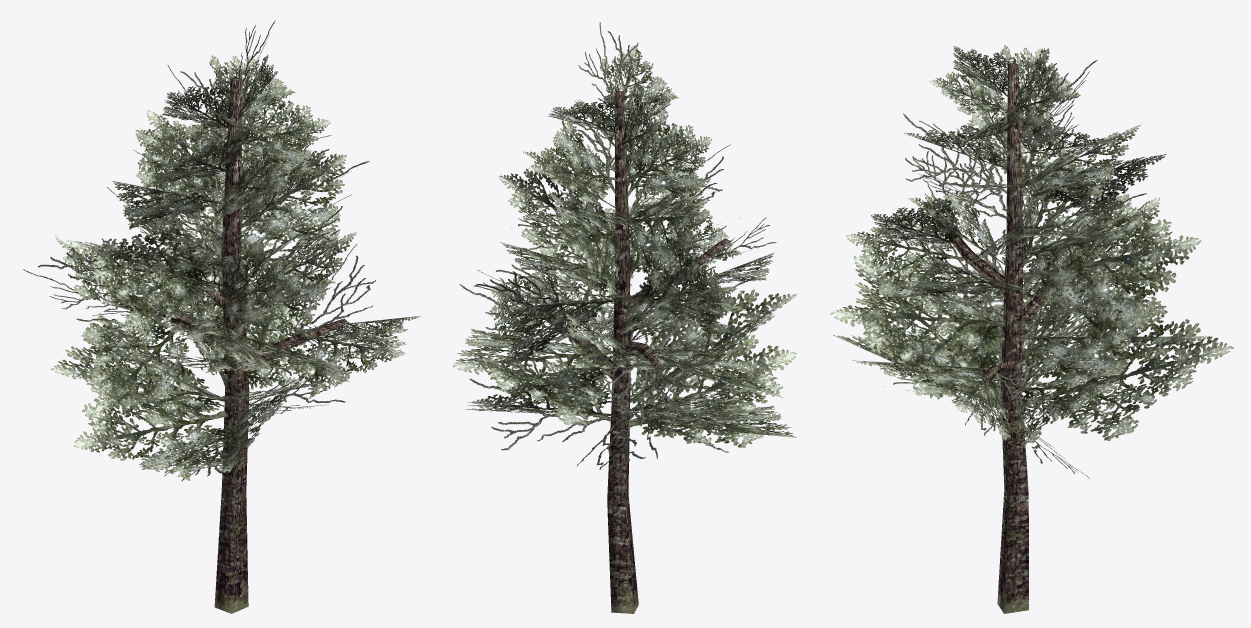
Rendered from OZ_00_hd_tree01D.glb.
The picture shows the model from 3 angles, left to right: view 1: azimuth 30°, elevation 25°; view 2: azimuth 150°, elevation 25°; view 3: azimuth 270°, elevation 25°; orthographic projection. The views are drawn at different scales.
Parts seen in each view (by area): view 1: OM_00_hd_tree01D; view 2: OM_00_hd_tree01D; view 3: OM_00_hd_tree01D.
Part boxes in pixels (x1,y1,x2,y2): OM_00_hd_tree01D: (23,20,420,613); OM_00_hd_tree01D: (453,22,797,613); OM_00_hd_tree01D: (830,45,1233,613).
Size of the model in its own units: 7.32 by 12.44 by 7.53.
2 materials, 2 textured.
